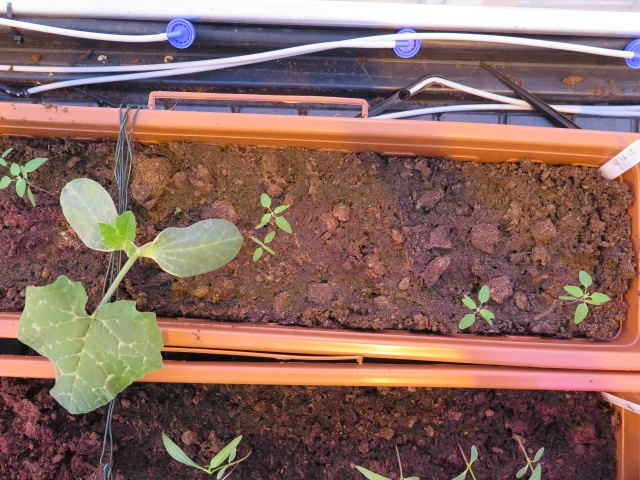weed: (20, 159, 245, 403), (155, 422, 259, 479), (554, 264, 615, 329), (1, 134, 38, 205), (451, 281, 497, 332), (253, 190, 288, 230), (244, 228, 275, 263)
